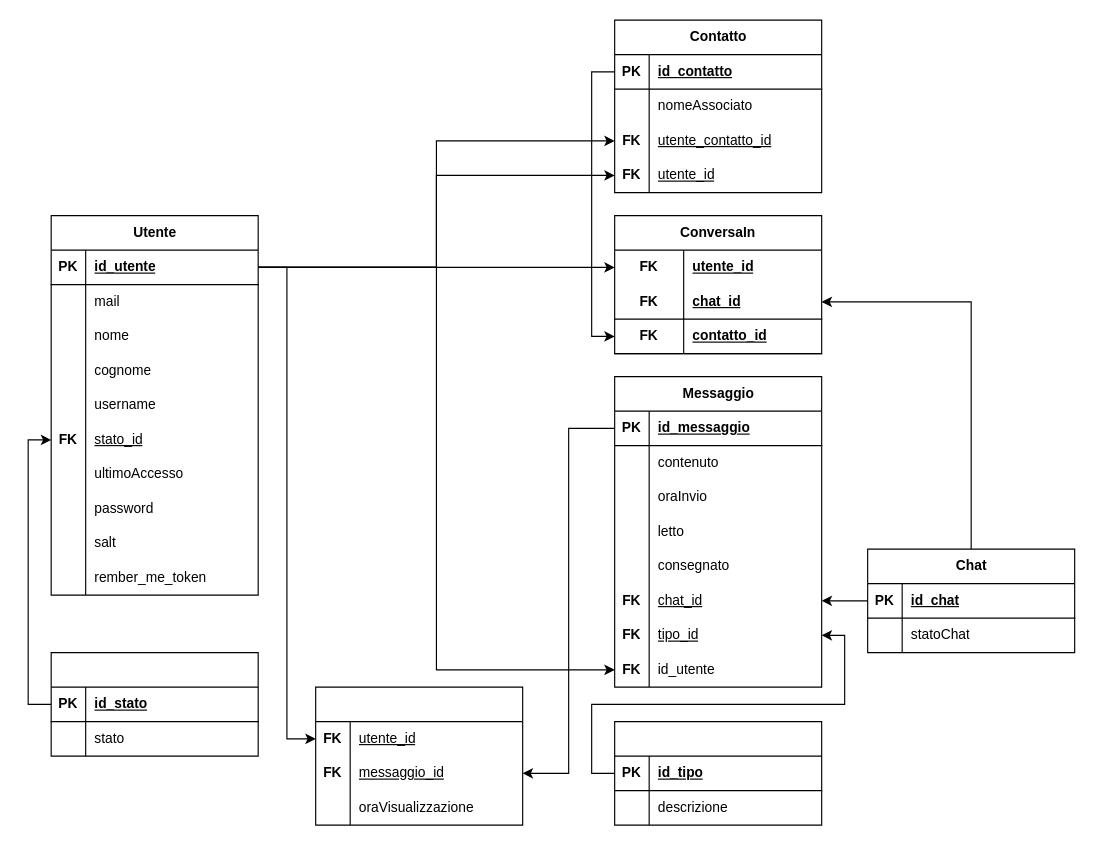
The diagram is 1095 pixels wide and 845 high, and some of its shapes have lost their labels. The box of each missing label's shape, as (x1, y1, x2, y2) in pixels:
Stati: (50, 651, 258, 756)
tipoMessaggio: (614, 720, 822, 825)
VisualizzatoDa: (315, 686, 523, 825)
